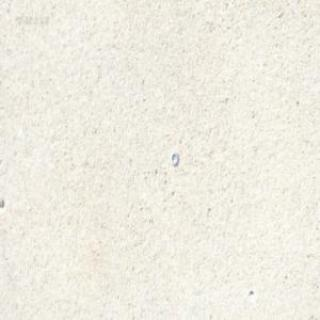Washertrack_idkeyframe: (170, 151, 178, 167)
